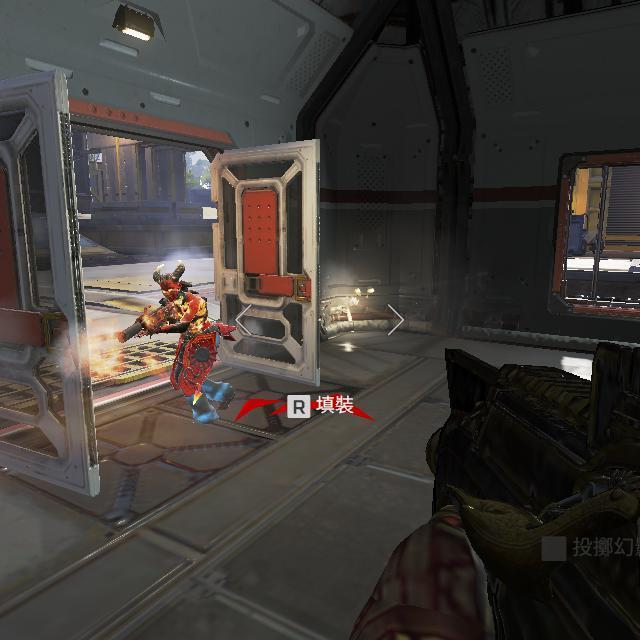avatar: (150, 262, 238, 427)
